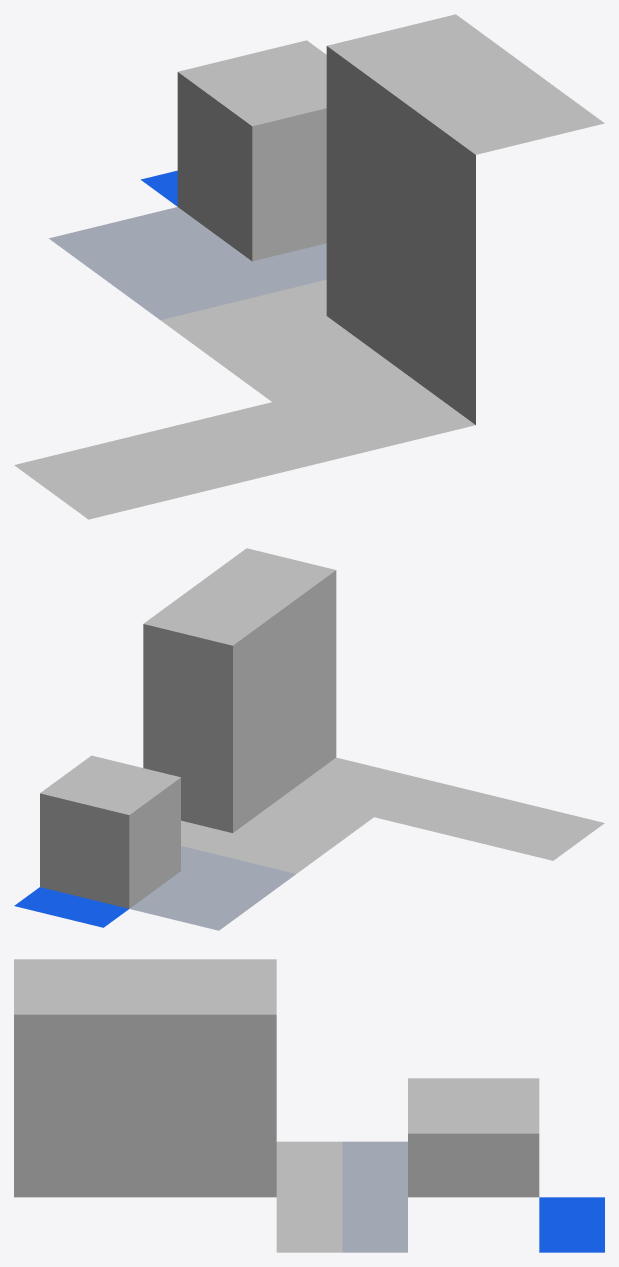
File: cell_6.obj
3 views of the same model, one above another, from view 1: azimuth 30°, elevation 25°; view 2: azimuth 150°, elevation 25°; view 3: azimuth 270°, elevation 25° (orthographic). The views are drawn at different scales.
Bounding box in the file's own units: 0.5 × 0.25 × 0.5625.
